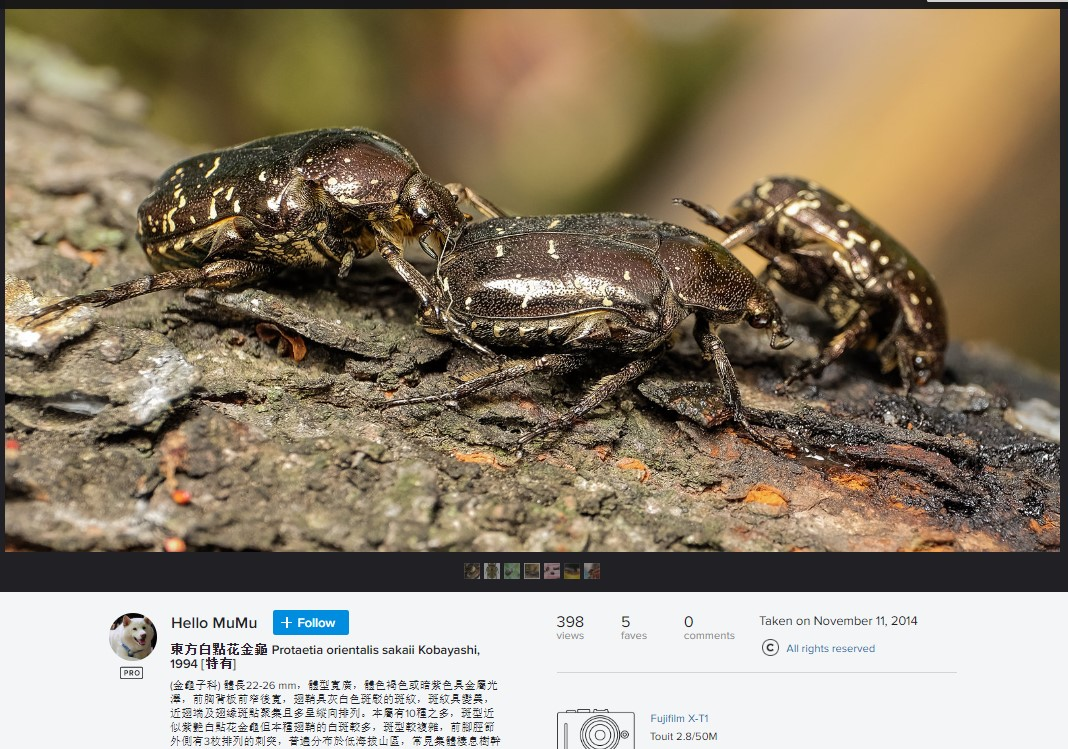Protaetia _orientalis: (28, 124, 468, 363), (441, 200, 792, 464), (692, 160, 951, 404)
